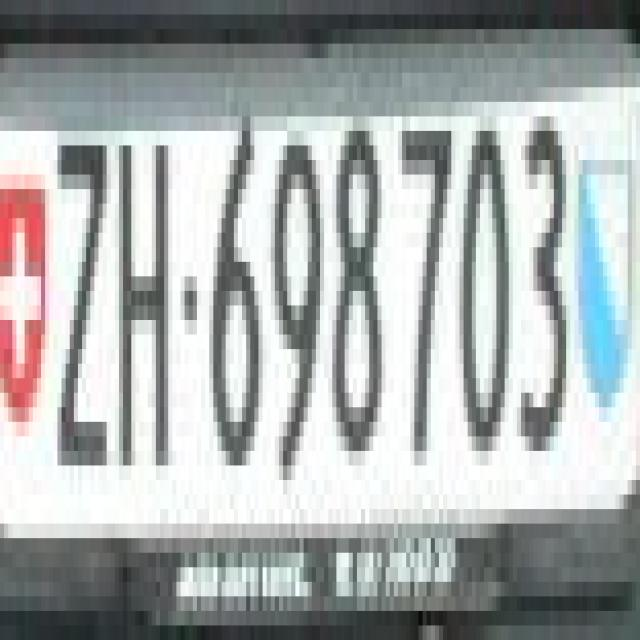0: (455, 102, 509, 465)
3: (517, 102, 570, 480)
6: (193, 102, 262, 451)
7: (390, 131, 447, 451)
8: (324, 102, 382, 480)
9: (271, 102, 324, 494)
H: (111, 102, 172, 480)
Z: (45, 102, 111, 451)
